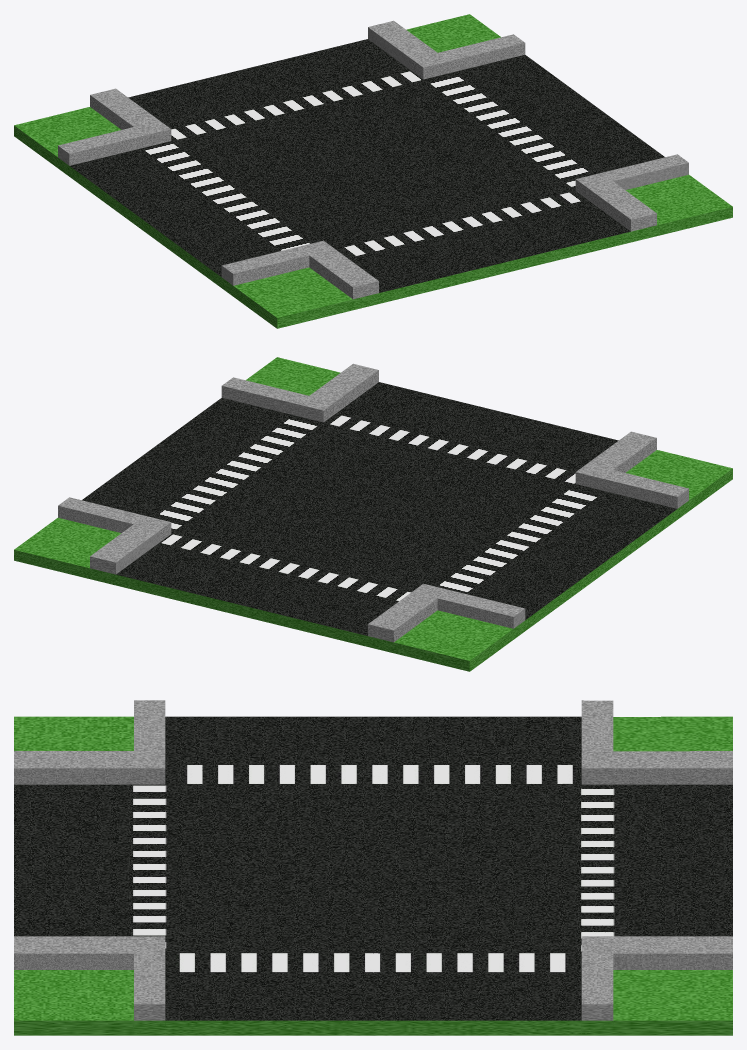
The model's file is CityRoad_Cross_Asset.fbx.
3 views of the same model, one above another, from view 1: azimuth 30°, elevation 25°; view 2: azimuth 150°, elevation 25°; view 3: azimuth 270°, elevation 25° (orthographic). The views are drawn at different scales.
Parts seen in each view (by area): view 1: CityRoad_Cross; view 2: CityRoad_Cross; view 3: CityRoad_Cross.
Boxes of the visible parts, x1,y1,x2,y2 form: CityRoad_Cross: (14, 14, 732, 328); CityRoad_Cross: (14, 357, 732, 671); CityRoad_Cross: (14, 700, 732, 1035).
Bounding box in the file's own units: 3.15 × 0.1506 × 3.15.
